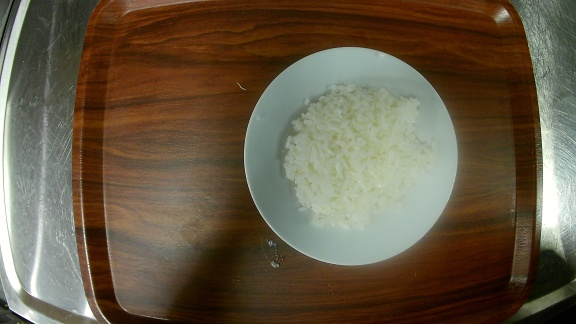pilav: (243, 47, 459, 264)
